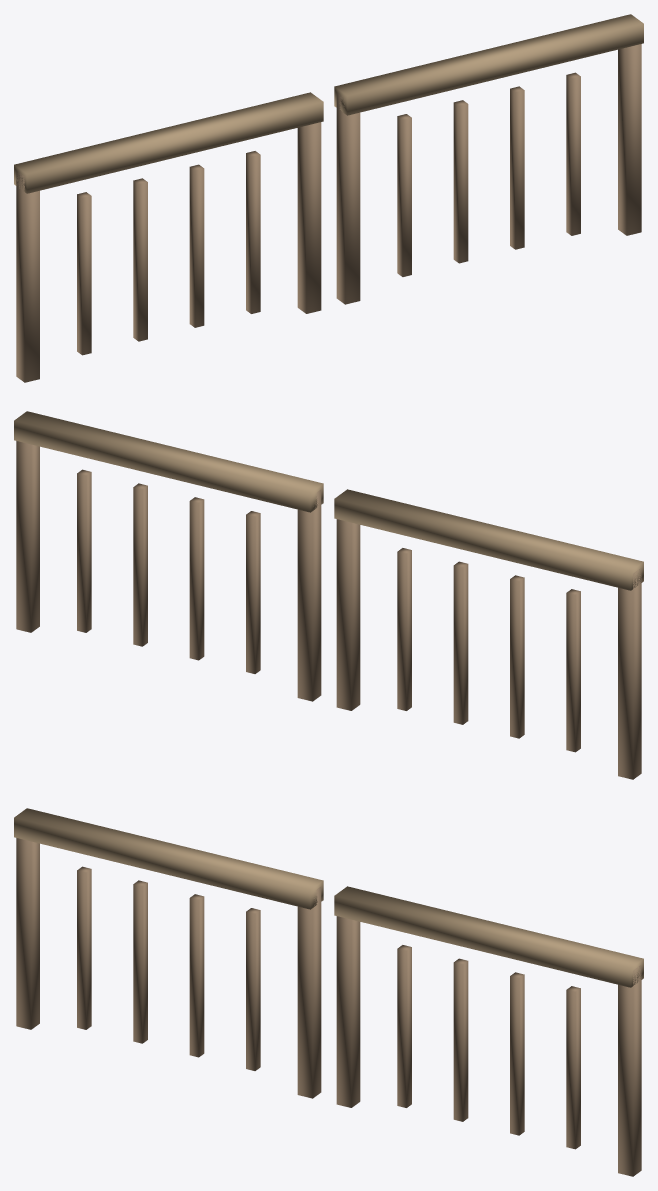
File: court_rail__cluster.glb
3 views of the same model, one above another, from view 1: azimuth 30°, elevation 25°; view 2: azimuth 150°, elevation 25°; view 3: azimuth 330°, elevation 25° (orthographic).
Parts seen in each view (by area): view 1: world; view 2: world; view 3: world.
Boxes of the visible parts, x1,y1,x2,y2 form: world: (14,14,643,382); world: (14,411,643,779); world: (14,808,643,1176).
Size of the model in its own units: 3.29 by 1.07 by 0.12.
